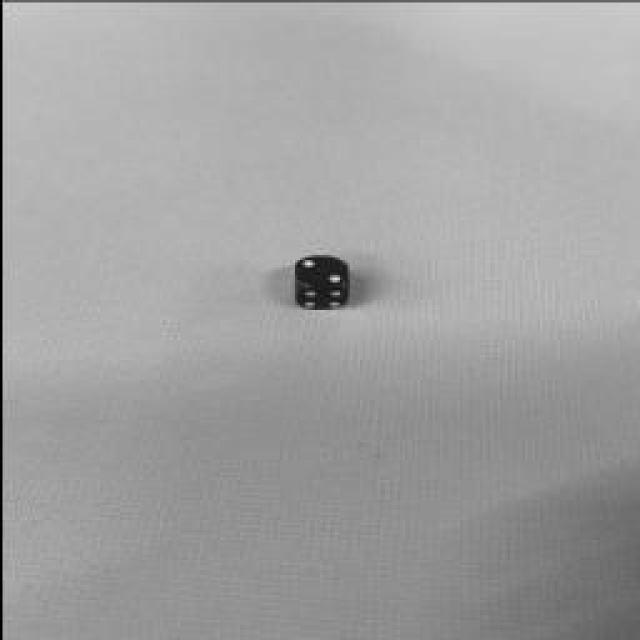dice_2: (292, 255, 346, 287)
